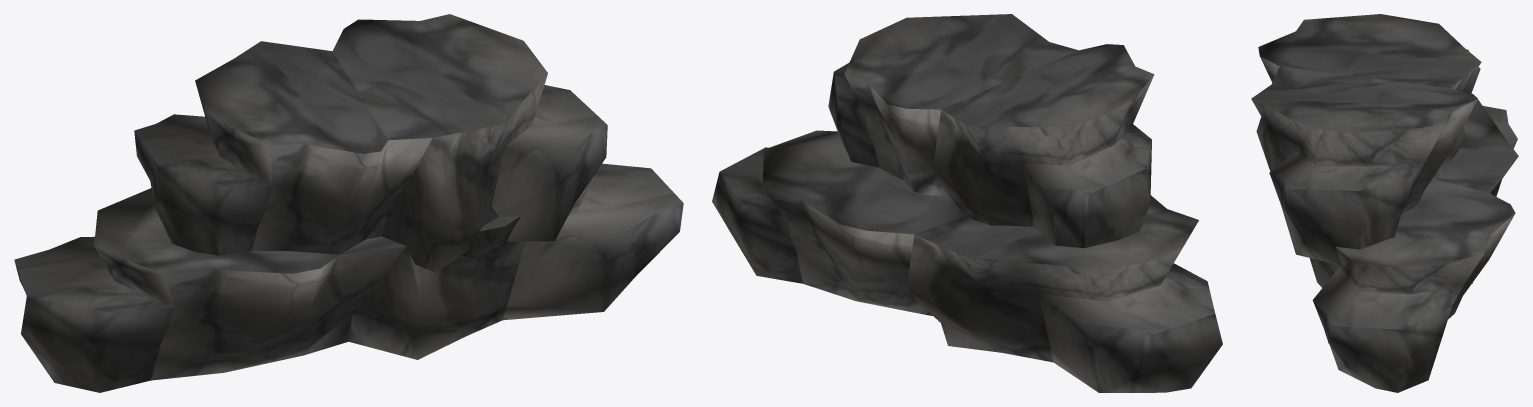
The model's file is M_gake4.fbx.
3 views of the same model, side by side, from view 1: azimuth 30°, elevation 25°; view 2: azimuth 150°, elevation 25°; view 3: azimuth 270°, elevation 25° (orthographic). The views are drawn at different scales.
Parts seen in each view (by area): view 1: M_gake4; view 2: M_gake4; view 3: M_gake4.
Boxes of the visible parts, x1,y1,x2,y2 form: M_gake4: (14,14,683,392); M_gake4: (712,14,1222,392); M_gake4: (1251,14,1518,392).
Size of the model in its own units: 5799 by 2431 by 2771.
Materials: 1 (1 with a texture image).
